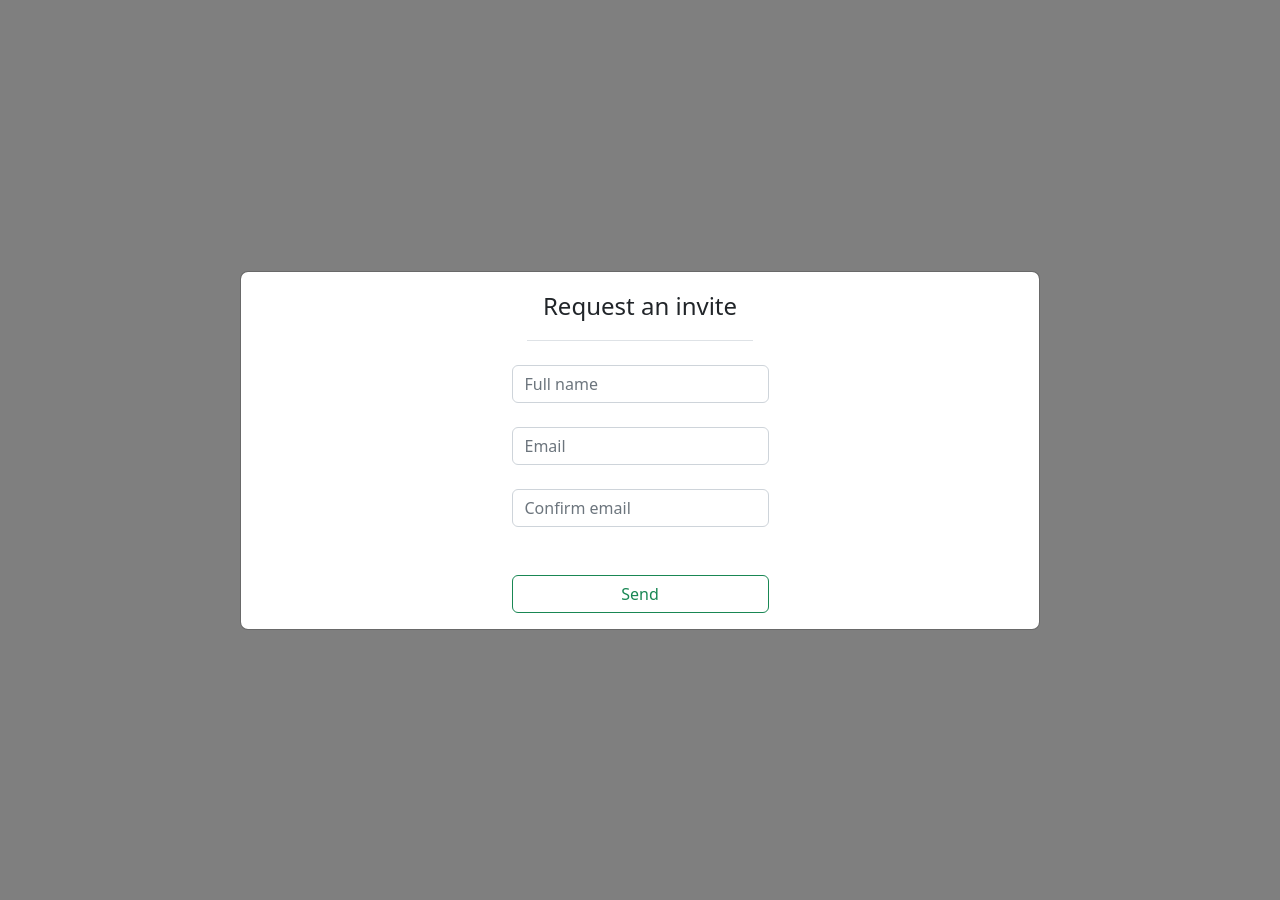
Test: test required fields if we leave 1 or 3 fields blank
The image size is (1280, 900).
Click the button: (640, 594) [512,574,768,612]
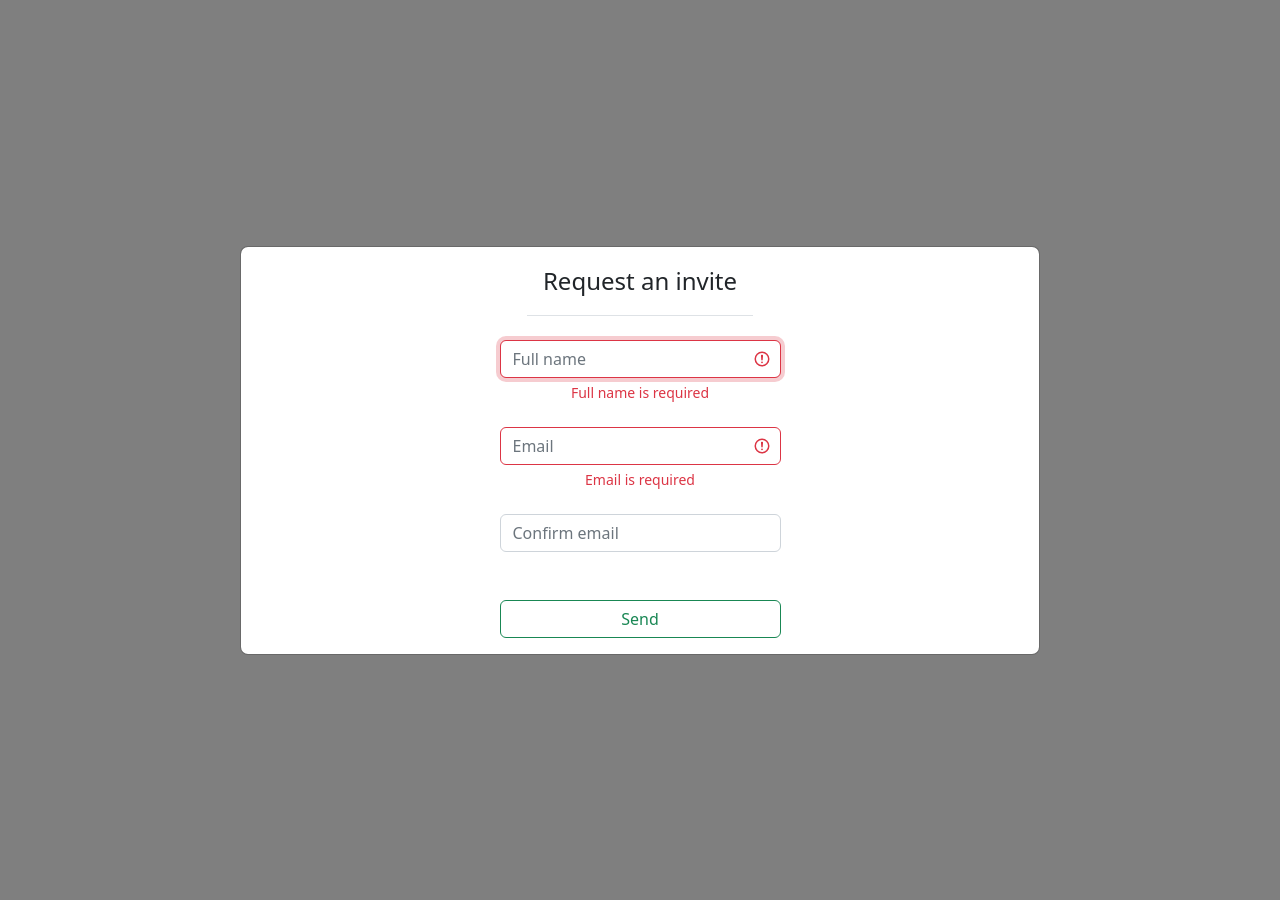
Now the text "Full name is required" is shown, box [571,382,709,402]
Now the text "Email is required" is shown, box [585,470,695,488]
